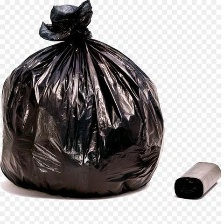plastic_bag: (0, 0, 165, 204), (168, 157, 223, 202)
